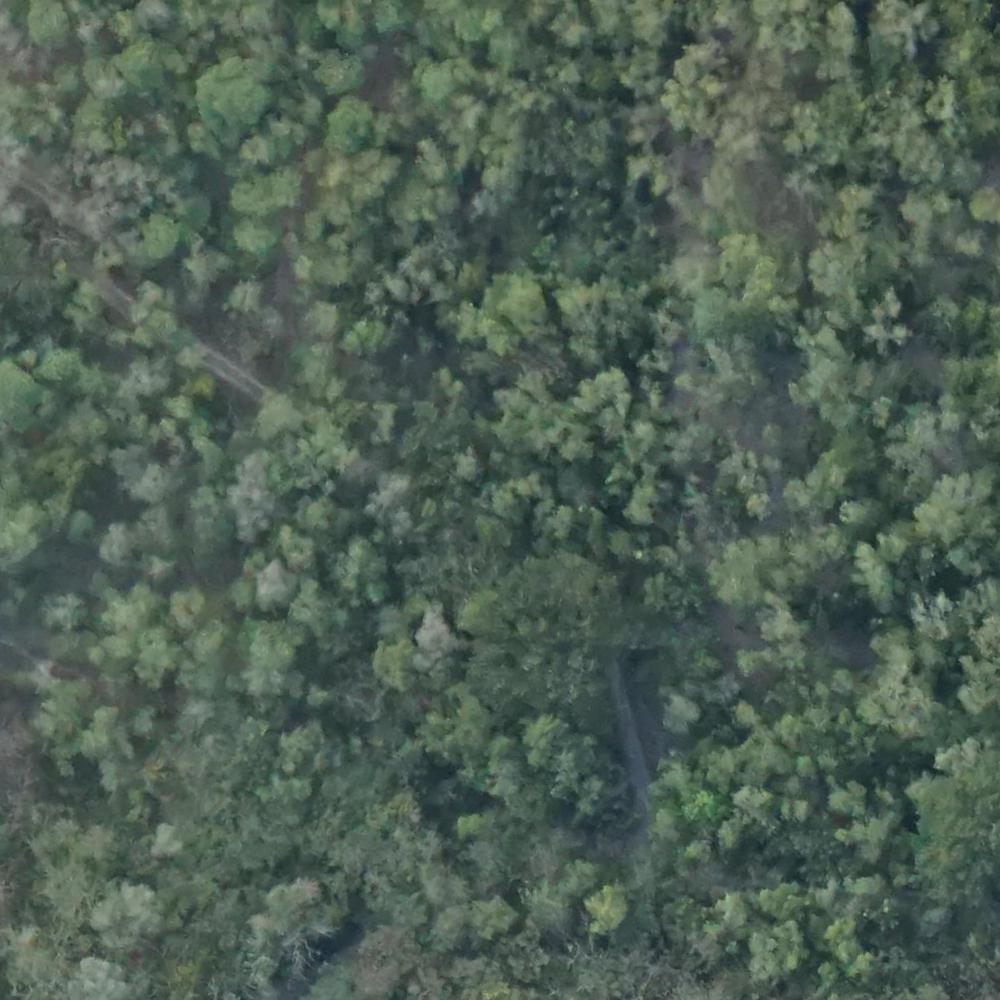tree: (192, 57, 277, 126), (556, 754, 623, 822), (90, 879, 157, 944), (711, 537, 770, 601), (802, 363, 856, 422), (368, 639, 425, 694), (925, 484, 979, 542), (666, 421, 720, 476), (665, 74, 721, 126), (863, 298, 918, 349), (522, 711, 571, 767), (586, 885, 633, 941), (764, 610, 811, 665), (583, 374, 633, 425), (412, 610, 464, 659), (464, 896, 518, 943), (753, 927, 801, 978), (809, 240, 860, 288), (310, 50, 363, 95), (421, 861, 465, 915), (648, 692, 704, 734), (28, 1, 73, 48), (718, 238, 763, 282), (540, 501, 586, 544), (178, 244, 219, 291), (847, 815, 890, 859), (325, 100, 368, 144), (125, 355, 168, 399), (256, 388, 299, 431), (253, 561, 292, 607), (167, 582, 209, 623), (227, 274, 261, 324), (502, 276, 541, 319), (827, 777, 864, 822), (238, 223, 277, 265), (275, 721, 315, 760), (194, 619, 230, 660), (143, 818, 177, 860), (490, 479, 523, 516), (974, 182, 1000, 224), (241, 133, 274, 166), (45, 592, 80, 623), (169, 395, 185, 411)
